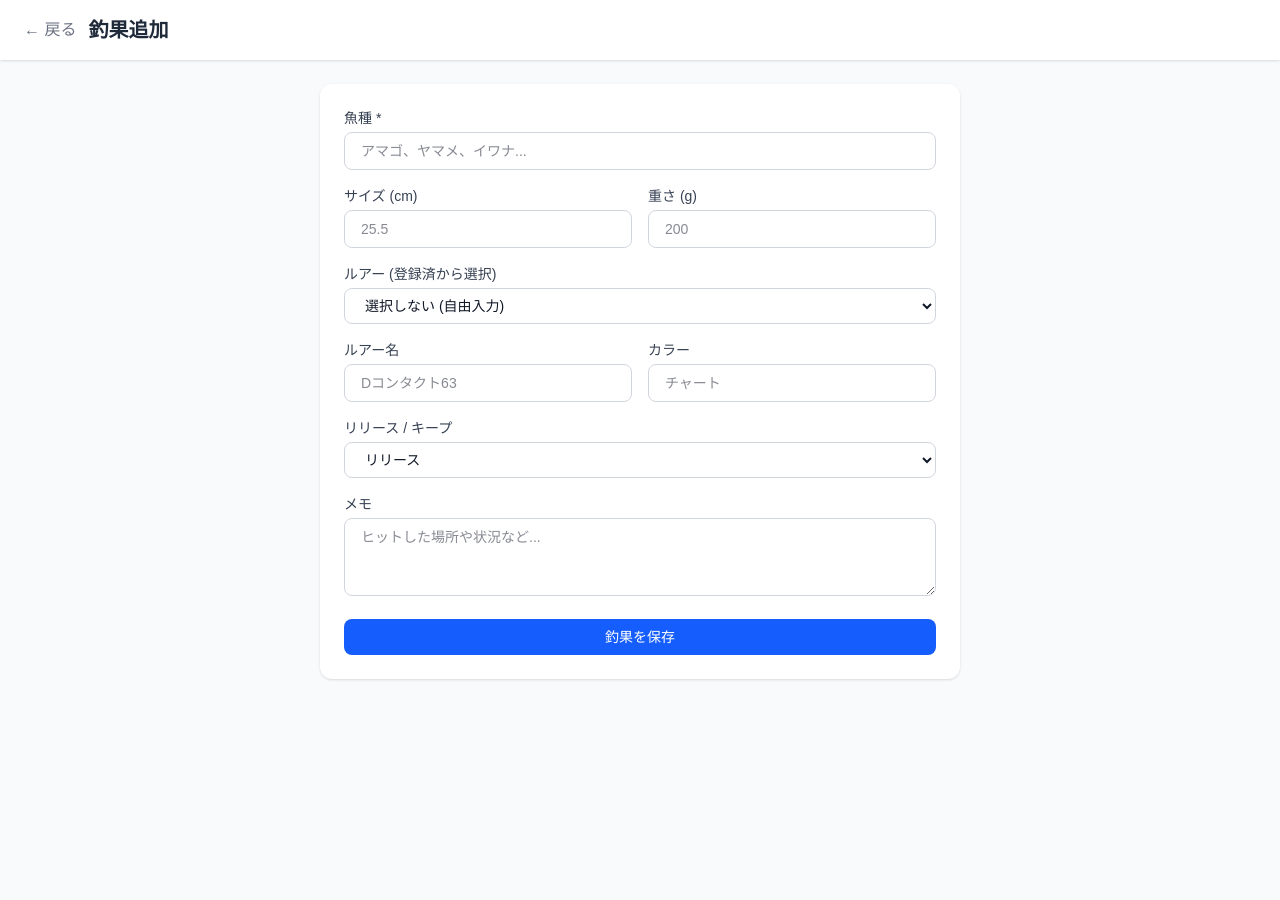
Scenario: NewCatchPage › 保存失敗時はエラー表示し画面遷移しない
This screenshot has width=1280, height=900.
Type "ヤマメ" into the field labelled "魚種 *" at x=640, y=151, box [344, 132, 936, 170]
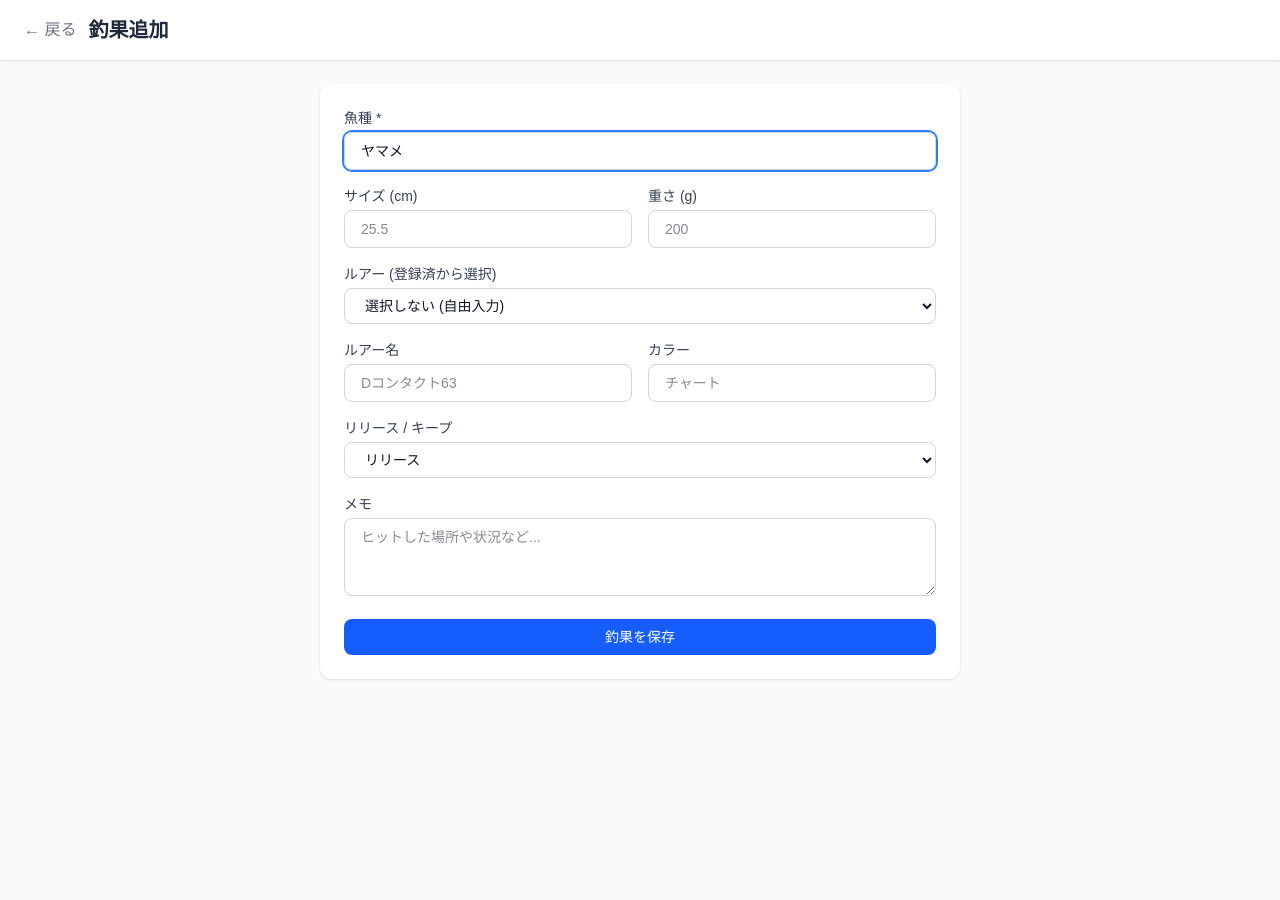
Click the button "釣果を保存" at x=640, y=637, box [344, 619, 936, 655]
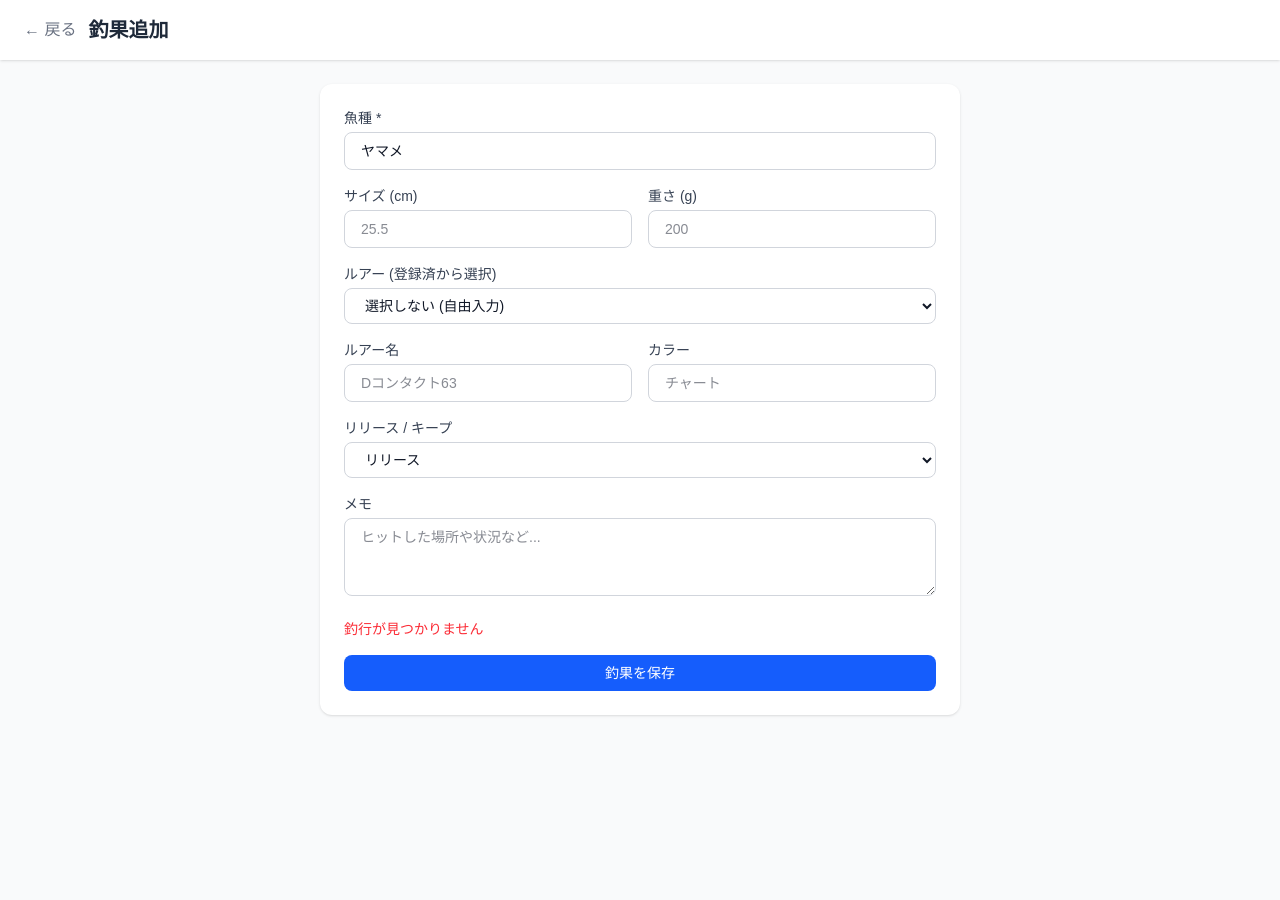
Now the text "釣行が見つかりません" is shown, box [344, 621, 484, 637]
